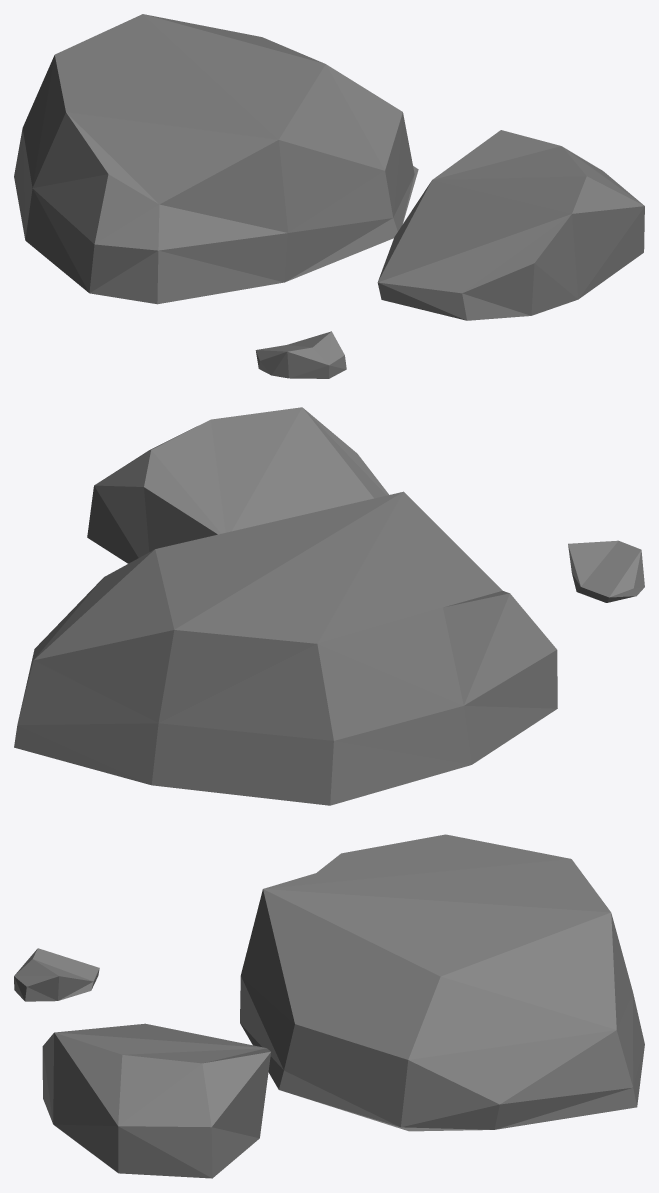
Rendered from _stone_3.glb.
3 views of the same model, one above another, from view 1: azimuth 30°, elevation 25°; view 2: azimuth 150°, elevation 25°; view 3: azimuth 270°, elevation 25° (orthographic). The views are drawn at different scales.
Parts seen in each view (by area): view 1: stone_3; view 2: stone_3; view 3: stone_3.
Boxes of the visible parts, left/top/right/bottom form: stone_3: left=14, top=14, right=644, bottom=378; stone_3: left=14, top=407, right=644, bottom=805; stone_3: left=14, top=834, right=644, bottom=1178.
Bounding box in the file's own units: 0.9877 × 0.2685 × 1.12.
1 material, 1 textured.
